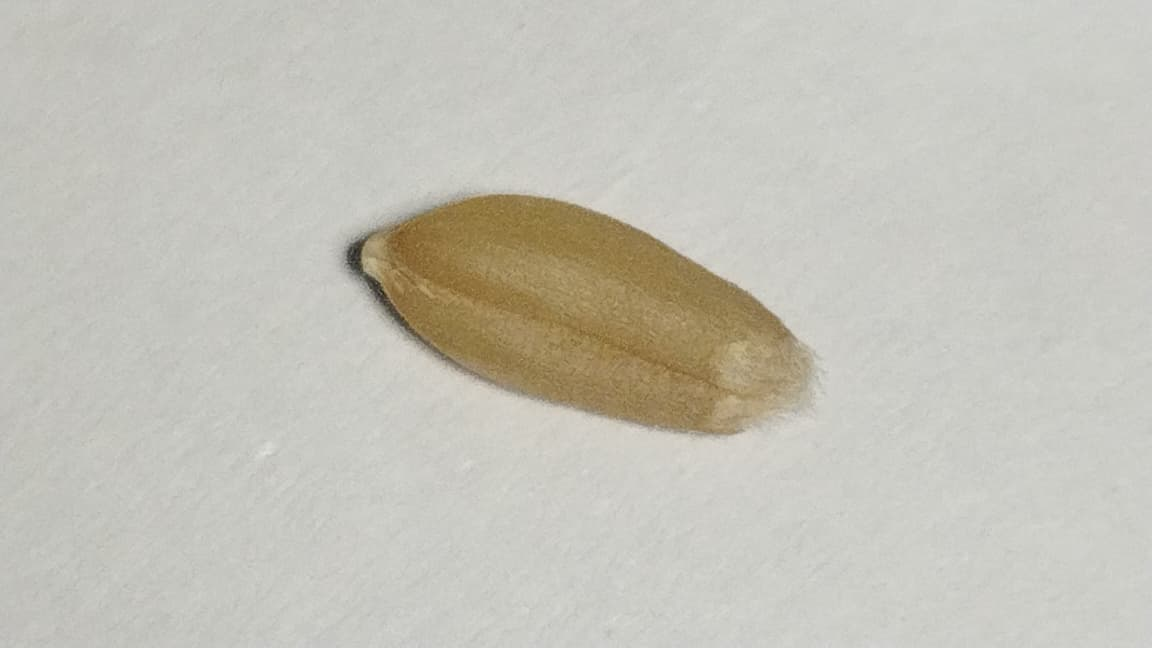healthy: (362, 195, 795, 430)
